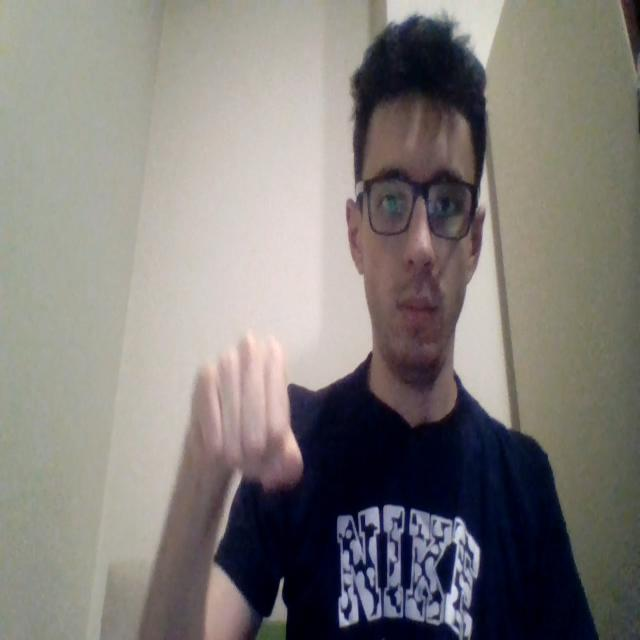yes: (190, 328, 304, 493)
